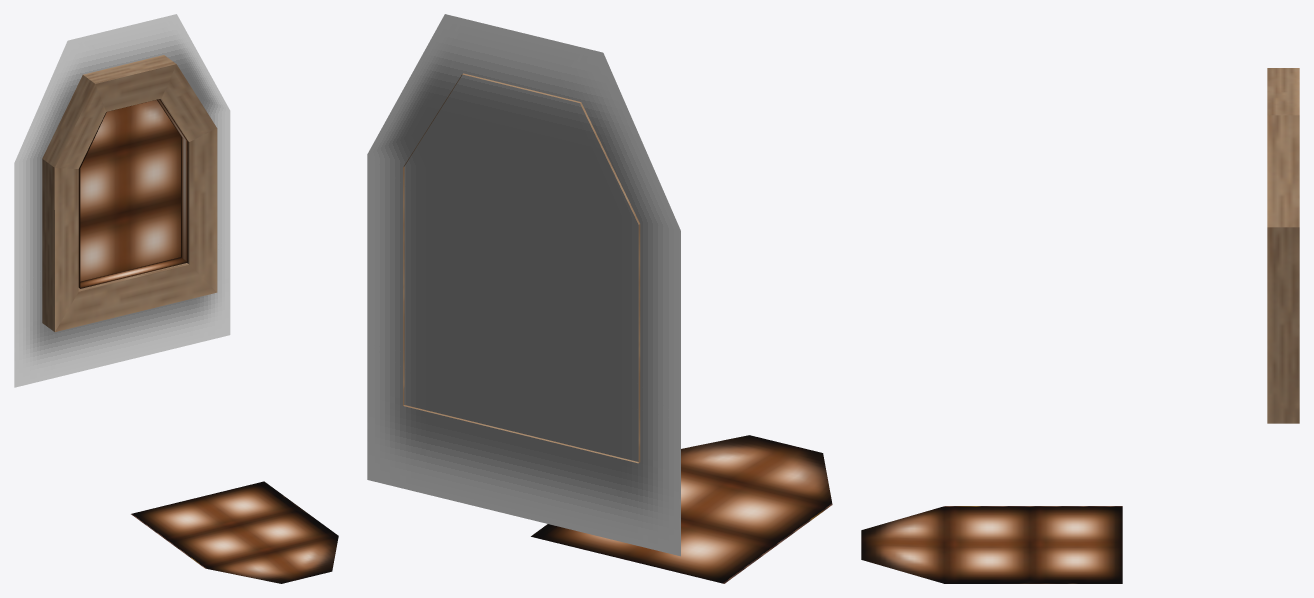
The model's file is School window1.fbx.
3 views of the same model, side by side, from view 1: azimuth 30°, elevation 25°; view 2: azimuth 150°, elevation 25°; view 3: azimuth 270°, elevation 25° (orthographic). The views are drawn at different scales.
Visible parts, largest first — view 1: add, shadow, obj; view 2: shadow, add, obj; view 3: add, obj.
Part boxes in pixels (<box>): add: <box>78,99,338,583</box>; shadow: <box>14,14,230,387</box>; obj: <box>42,55,217,331</box>; shadow: <box>367,14,680,556</box>; add: <box>531,435,832,583</box>; obj: <box>403,73,640,463</box>; add: <box>861,506,1122,583</box>; obj: <box>1267,68,1299,423</box>.
Bounding box in the file's own units: 0.9433 × 1.74 × 1.39.
